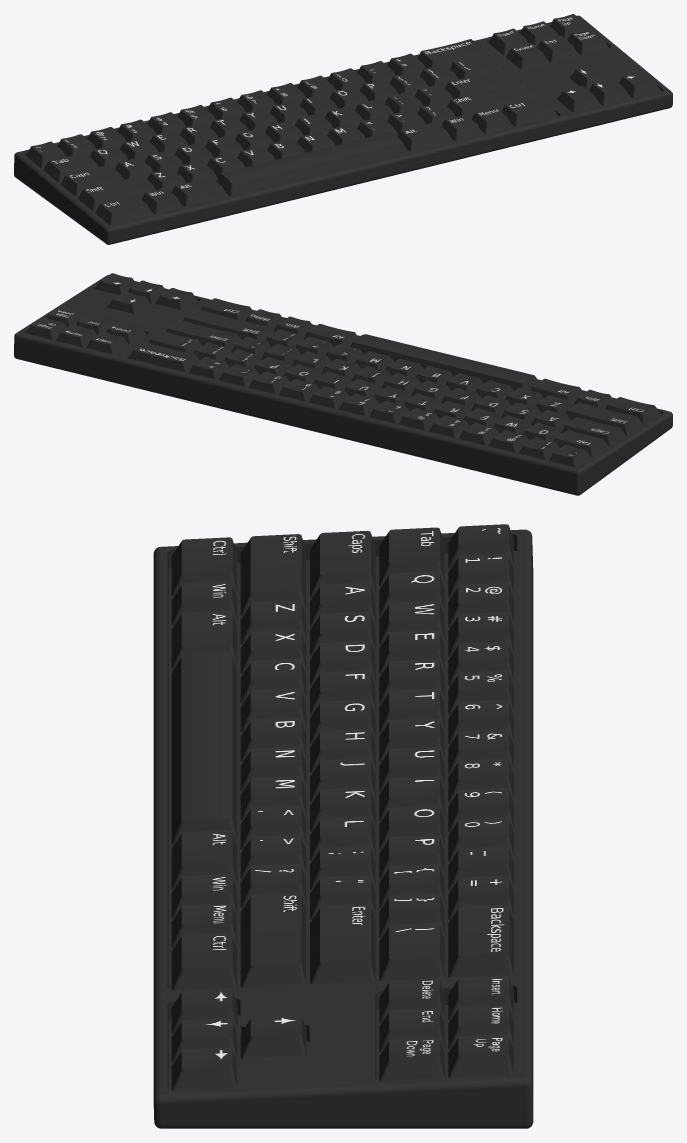
File: keyboard_us-semicompact-angled.dae
The picture shows the model from 3 angles, top to bottom: view 1: azimuth 30°, elevation 25°; view 2: azimuth 150°, elevation 25°; view 3: azimuth 270°, elevation 25°; orthographic projection. The views are drawn at different scales.
Visible parts, largest first — view 1: node; view 2: node; view 3: node.
Part boxes in pixels (bbox=[...]): node: bbox=[14, 14, 672, 244]; node: bbox=[14, 273, 672, 495]; node: bbox=[153, 524, 533, 1128].
Bounding box in the file's own units: 0.359 × 0.0198 × 0.1042.
1 material, 1 textured.
